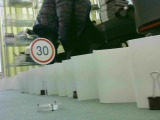speed_30: (27, 37, 57, 67)
